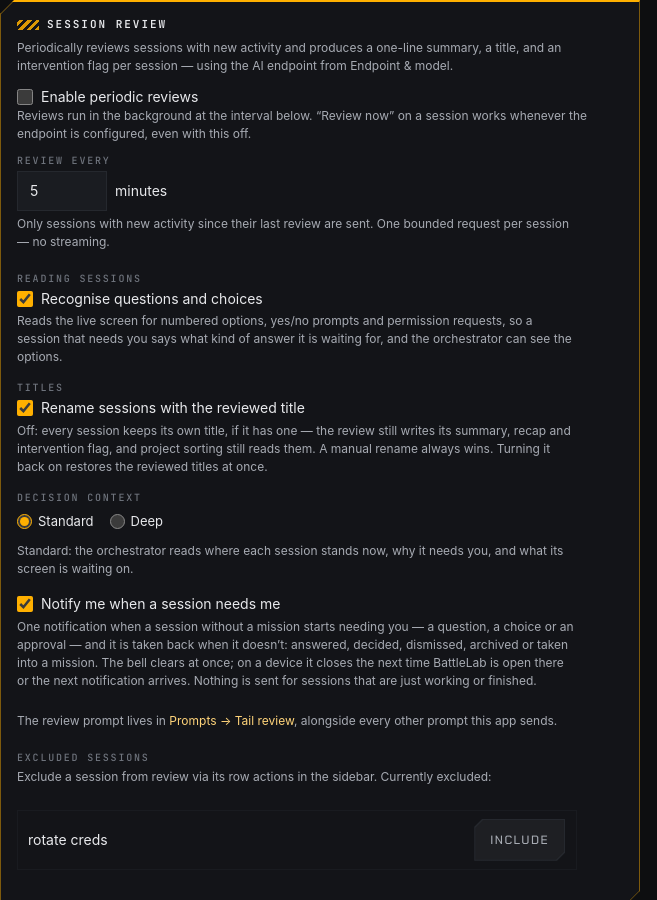
it: excluded sessions list re-includes a session
Expected: the text "rotate creds" is shown, [28, 831, 108, 848]
Click the button "Include". click: (520, 840)
box: [473, 818, 566, 862]
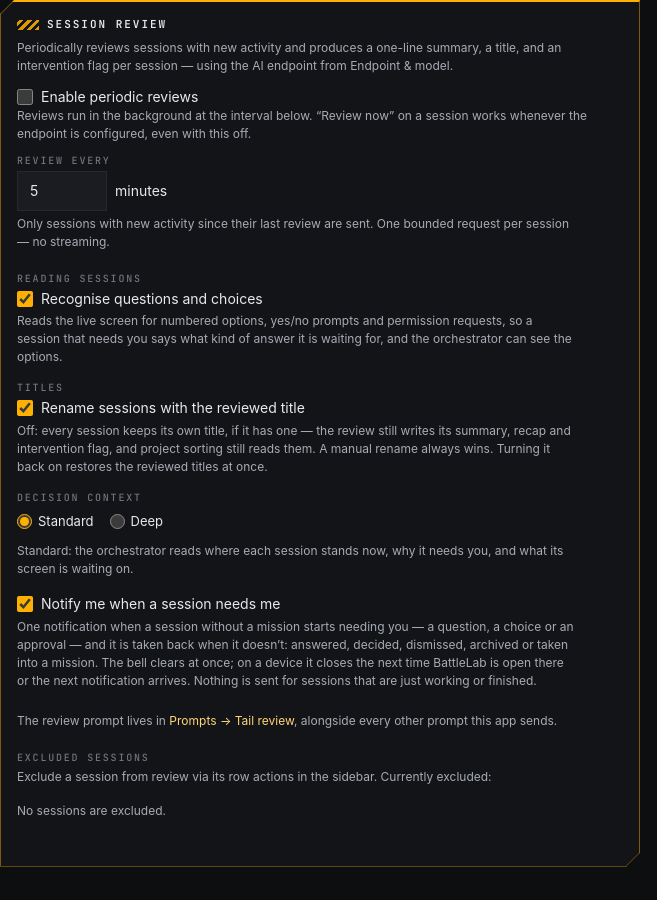
Expected: the text "rotate creds" is gone
